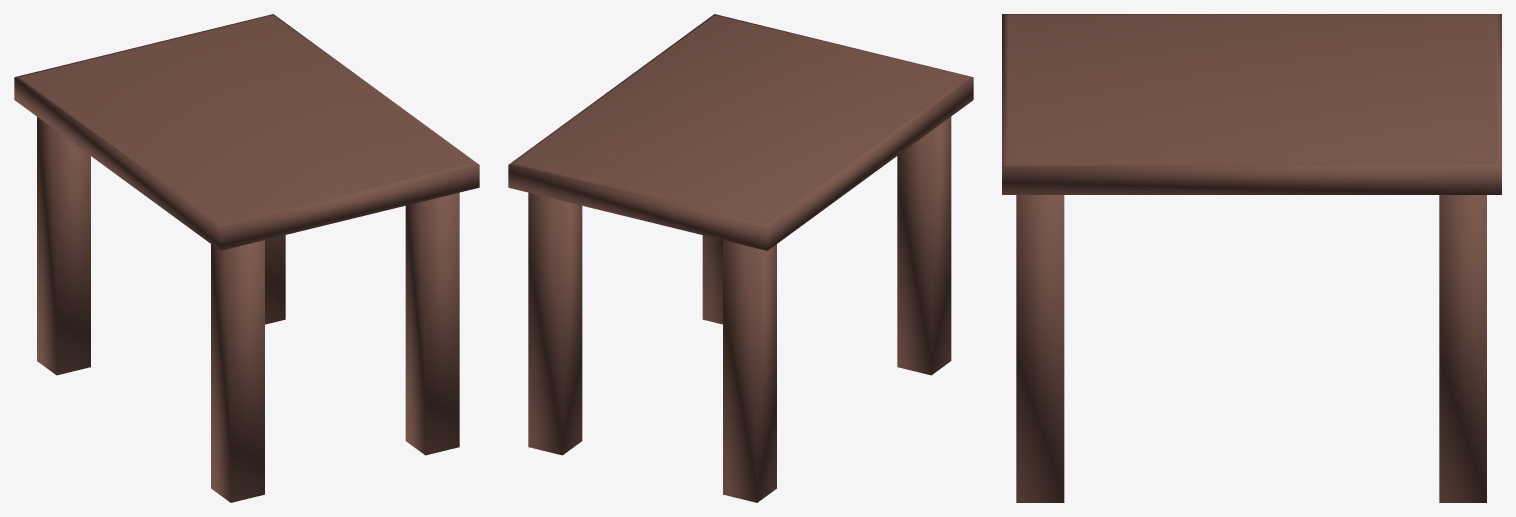
File: SmallTable.fbx
The picture shows the model from 3 angles, left to right: view 1: azimuth 30°, elevation 25°; view 2: azimuth 150°, elevation 25°; view 3: azimuth 270°, elevation 25°; orthographic projection. The views are drawn at different scales.
Parts seen in each view (by area): view 1: Cube; view 2: Cube; view 3: Cube.
Part boxes in pixels (left/top/right/bottom): Cube: left=14, top=14, right=479, bottom=502; Cube: left=508, top=14, right=973, bottom=502; Cube: left=1002, top=14, right=1501, bottom=502.
Bounding box in the file's own units: 471 × 501 × 649.
